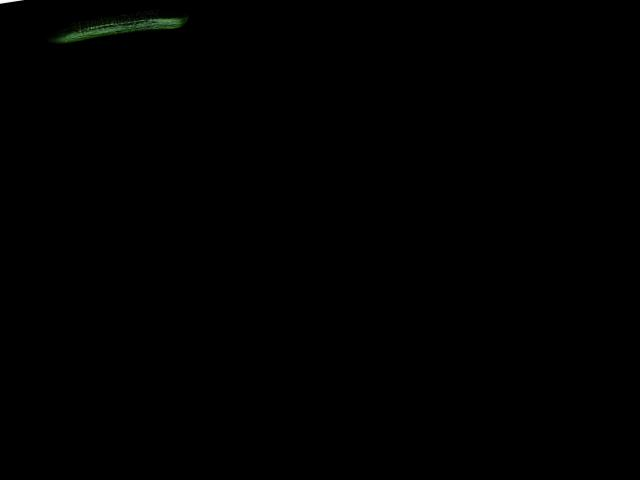cucumber: (42, 3, 191, 47)
